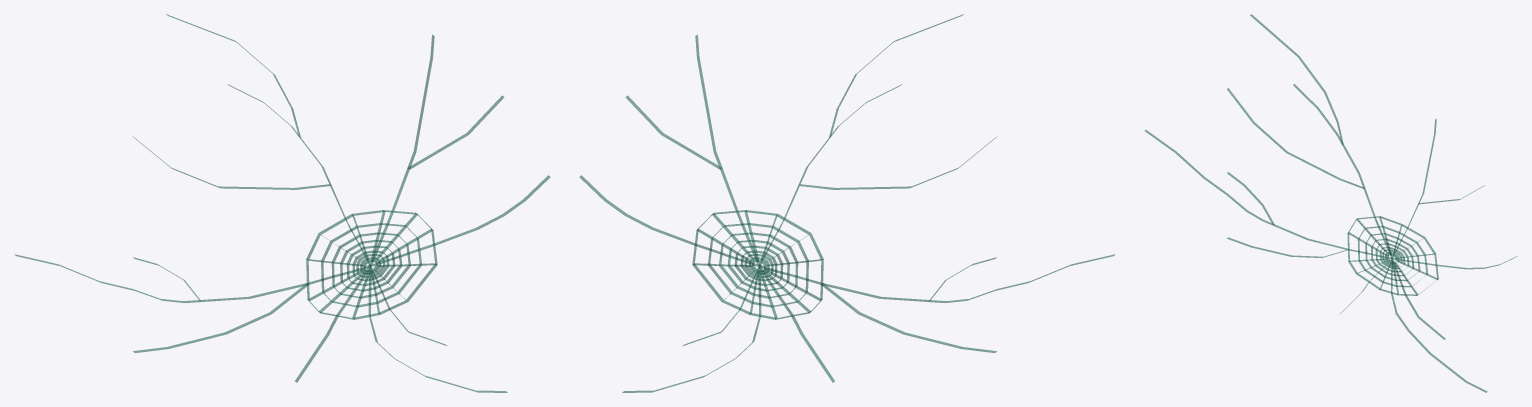
Rendered from Grass3.glb.
3 renders of one model, left to right at view 1: azimuth 30°, elevation 25°; view 2: azimuth 150°, elevation 25°; view 3: azimuth 330°, elevation 25°, orthographic. The views are drawn at different scales.
Parts seen in each view (by area): view 1: plane; view 2: plane; view 3: plane.
Boxes of the visible parts, bbox=[...] form: plane: bbox=[14, 14, 550, 392]; plane: bbox=[579, 14, 1115, 392]; plane: bbox=[1144, 14, 1517, 392].
Bounding box in the file's own units: 3.57 × 2.94 × 0.0258.
